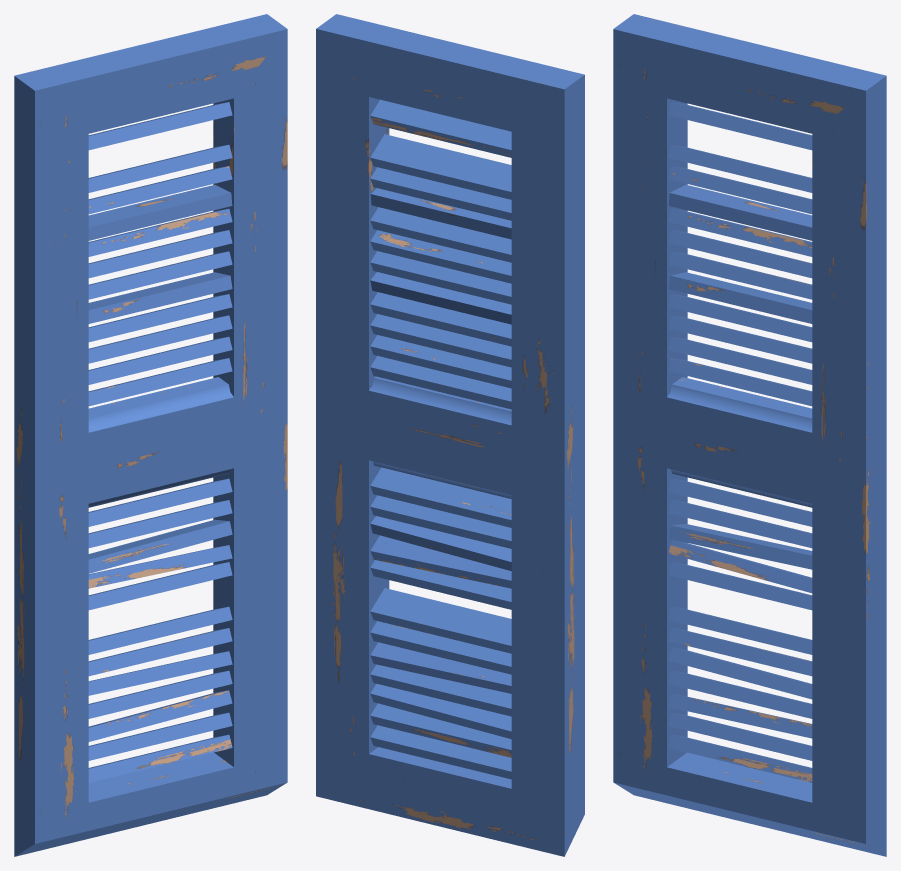
File: ShutterWallDoubleWindowLeft.fbx
3 views of the same model, side by side, from view 1: azimuth 30°, elevation 25°; view 2: azimuth 150°, elevation 25°; view 3: azimuth 330°, elevation 25° (orthographic).
Parts seen in each view (by area): view 1: ShutterWallDoubleWindowLeft; view 2: ShutterWallDoubleWindowLeft; view 3: ShutterWallDoubleWindowLeft.
Boxes of the visible parts, <box> form: ShutterWallDoubleWindowLeft: <box>14,14,287,856</box>; ShutterWallDoubleWindowLeft: <box>316,14,584,856</box>; ShutterWallDoubleWindowLeft: <box>613,14,886,856</box>.
Size of the model in its own units: 37.6 by 111 by 5.31.
1 material, 1 textured.
